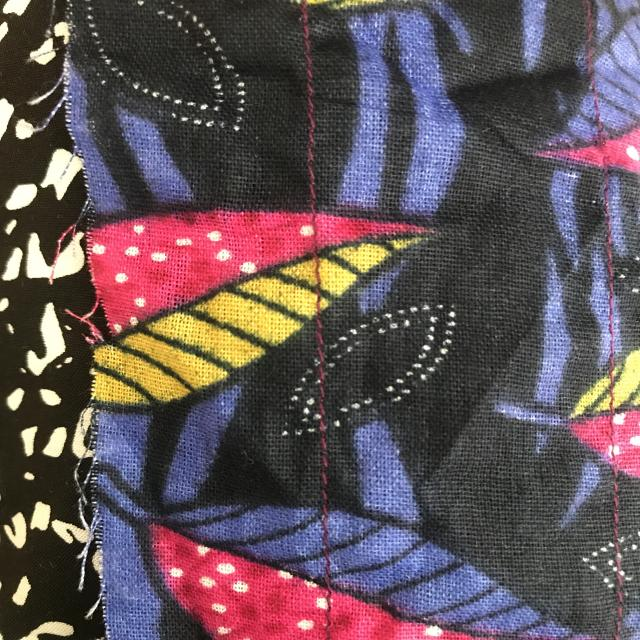good: (307, 408, 351, 589), (290, 31, 323, 186)
